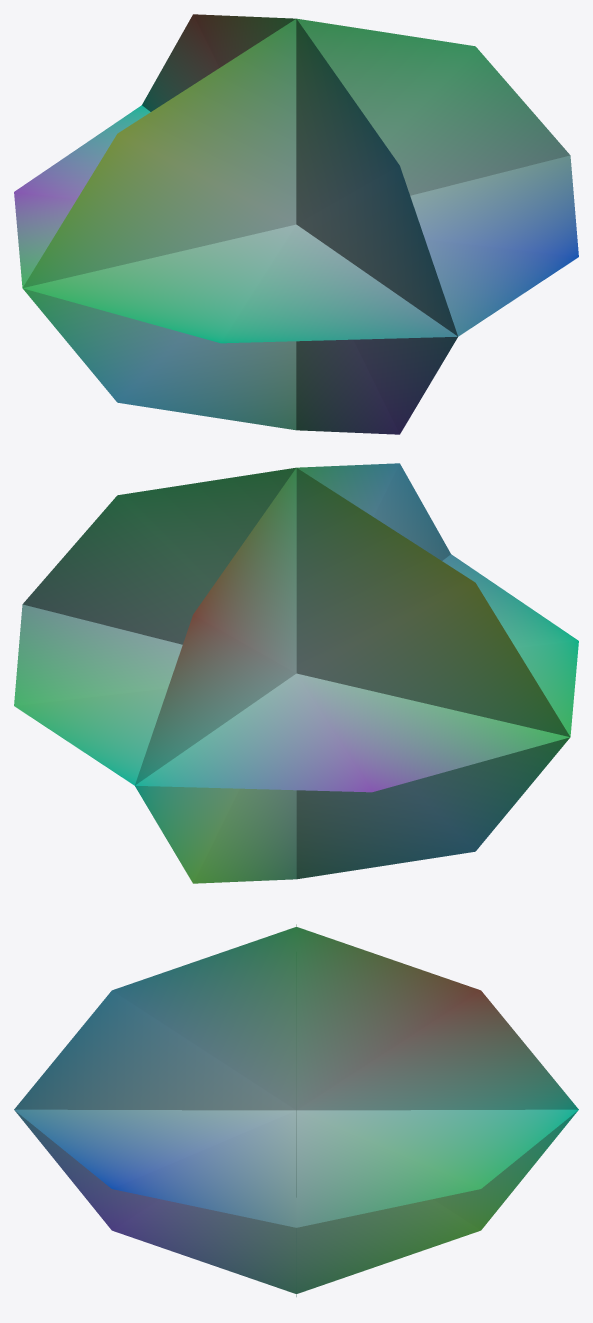
Rendered from space-asteroids-crystal-asteroid_v10.glb.
The picture shows the model from 3 angles, top to bottom: view 1: azimuth 30°, elevation 25°; view 2: azimuth 150°, elevation 25°; view 3: azimuth 270°, elevation 25°; orthographic projection. The views are drawn at different scales.
Parts seen in each view (by area): view 1: Crystal Asteroid_v10; view 2: Crystal Asteroid_v10; view 3: Crystal Asteroid_v10.
Boxes of the visible parts, x1=… form: Crystal Asteroid_v10: x1=14, y1=14, x2=578, y2=434; Crystal Asteroid_v10: x1=14, y1=463, x2=578, y2=883; Crystal Asteroid_v10: x1=14, y1=924, x2=578, y2=1296.
Bounding box in the file's own units: 100 × 71.78 × 100.
